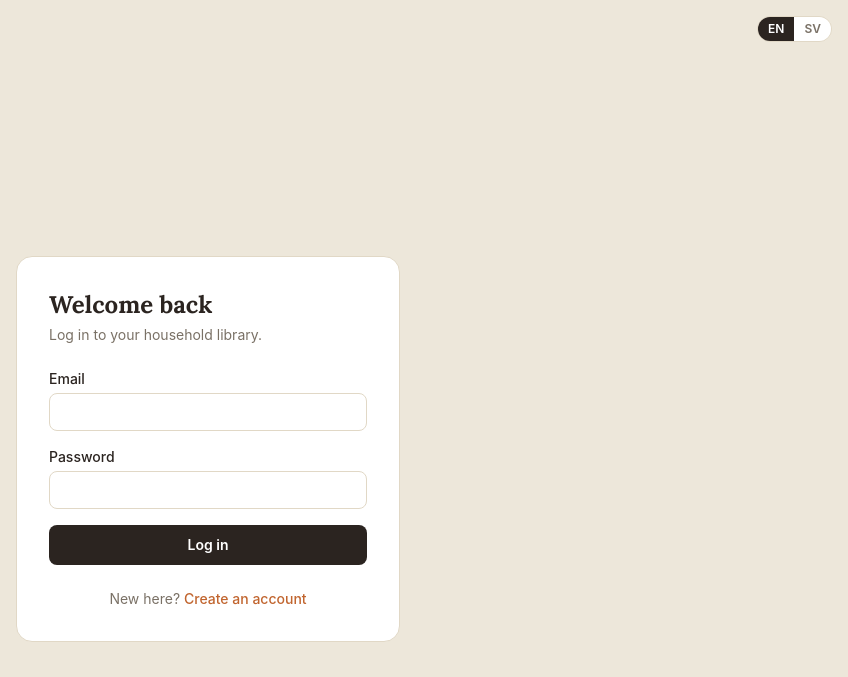
Test: LoginPage › shows an error message when login fails
Type "a@example.com" into the field labelled "Email".
click(208, 412); type("a@example.com")  # box left=49, top=393, right=367, bottom=431
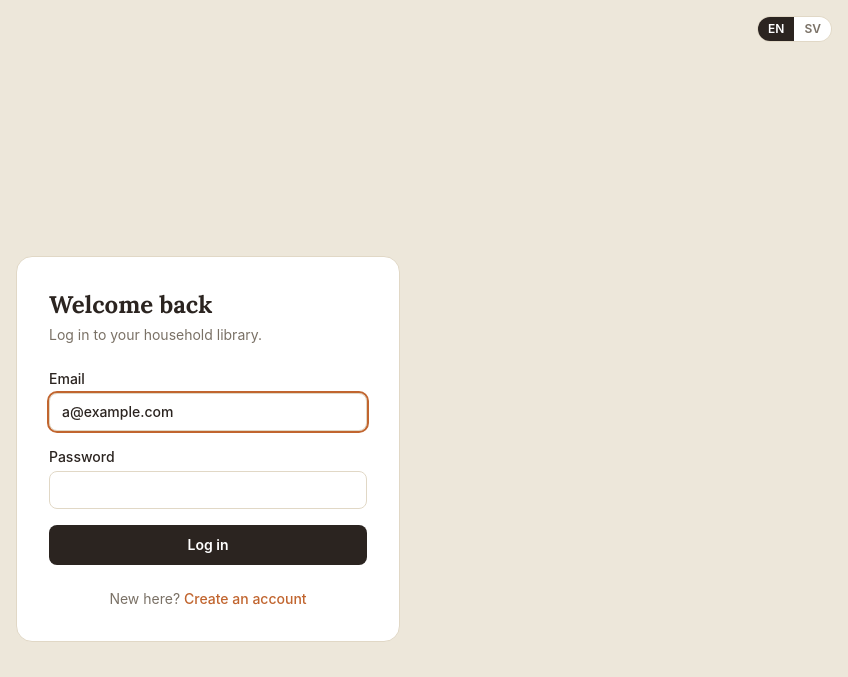
Type "wrongpass" into the password field labelled "Password".
click(208, 490); type("wrongpass")  # box left=49, top=471, right=367, bottom=509
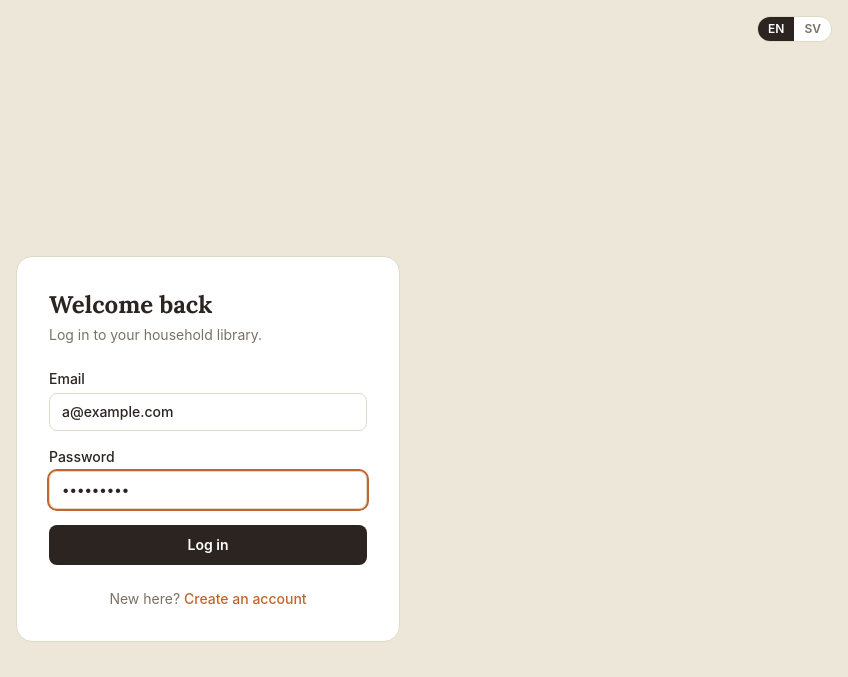
Click the button "Log in".
click(208, 545)  # box left=49, top=525, right=367, bottom=565
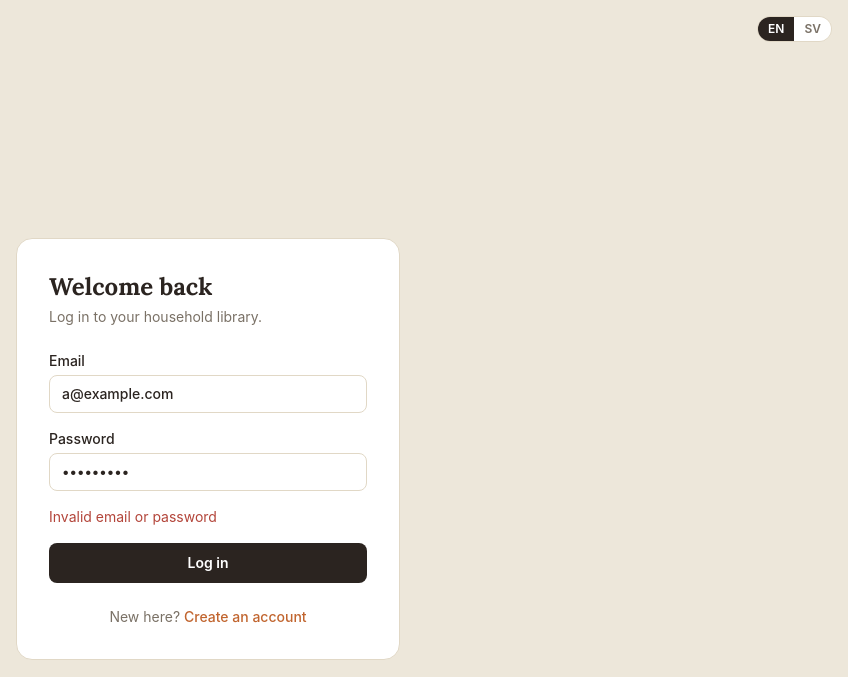
Now the text "Invalid email or password" is shown, box left=49, top=508, right=217, bottom=525
